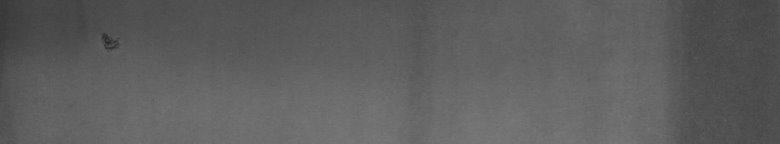fi: (97, 28, 120, 56)
